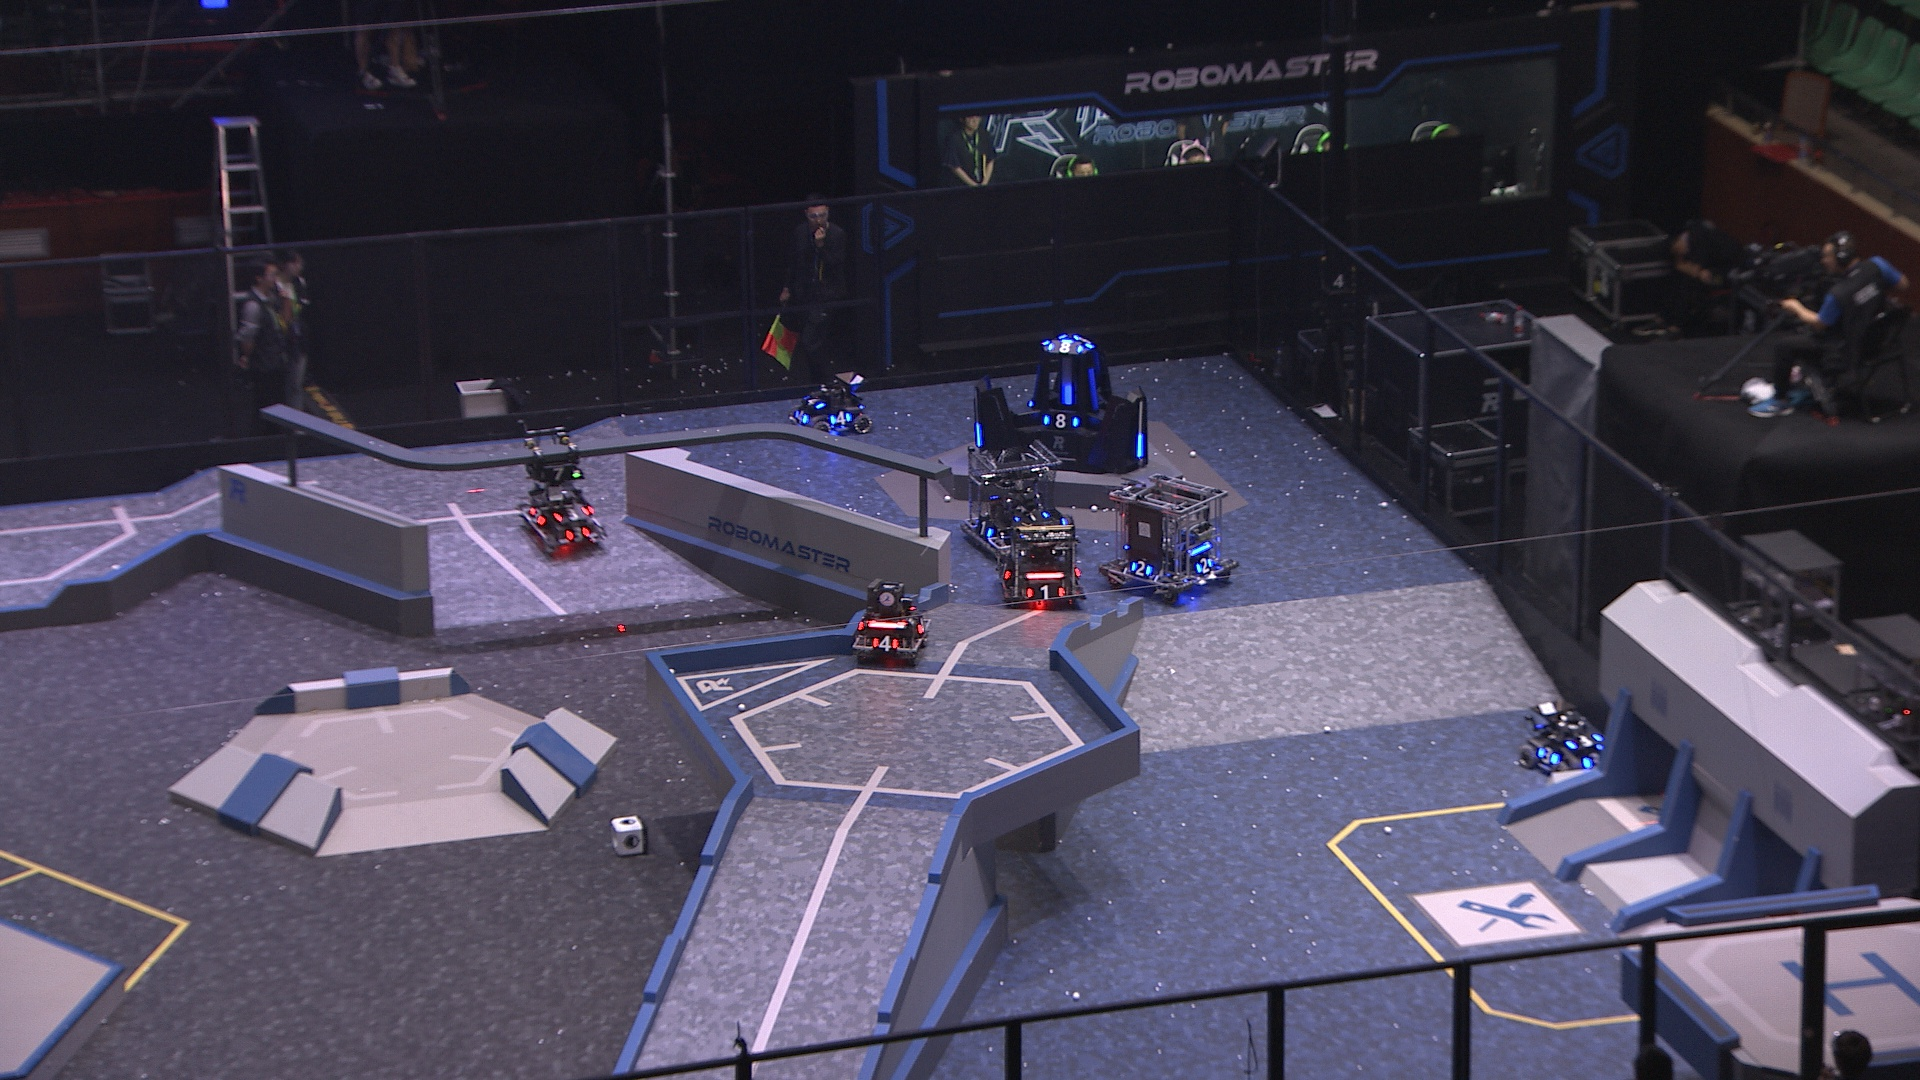armor: (1040, 409, 1083, 431), (551, 504, 596, 524), (1011, 505, 1051, 527), (535, 462, 580, 481), (1532, 740, 1561, 769), (1026, 583, 1068, 603), (1564, 731, 1602, 750), (1578, 750, 1610, 773), (866, 636, 901, 655), (1087, 368, 1102, 410), (562, 526, 591, 547), (1044, 339, 1083, 353), (829, 407, 855, 429), (790, 406, 812, 429), (972, 516, 996, 537), (1193, 555, 1218, 575), (1127, 559, 1153, 579), (527, 504, 547, 527), (800, 394, 828, 410), (996, 560, 1015, 582), (1131, 431, 1147, 458), (1059, 381, 1073, 406), (913, 615, 927, 637), (975, 423, 986, 447)
base: (969, 324, 1154, 475)
car: (1097, 472, 1240, 608), (960, 439, 1076, 570), (1519, 694, 1619, 785), (993, 520, 1087, 608), (847, 576, 939, 665), (514, 472, 604, 556), (785, 368, 876, 440)
watcher: (520, 422, 584, 502)
